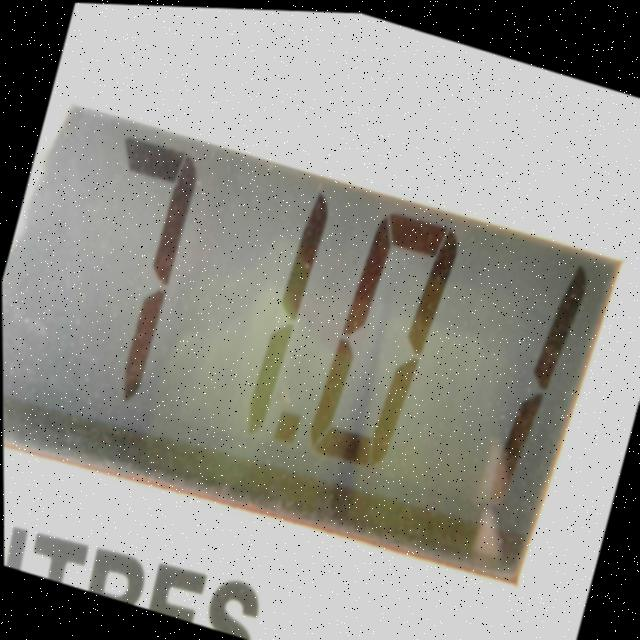.: (268, 402, 304, 459)
0: (301, 209, 452, 475)
1: (477, 244, 593, 510), (233, 176, 333, 443)
7: (61, 133, 208, 408)
